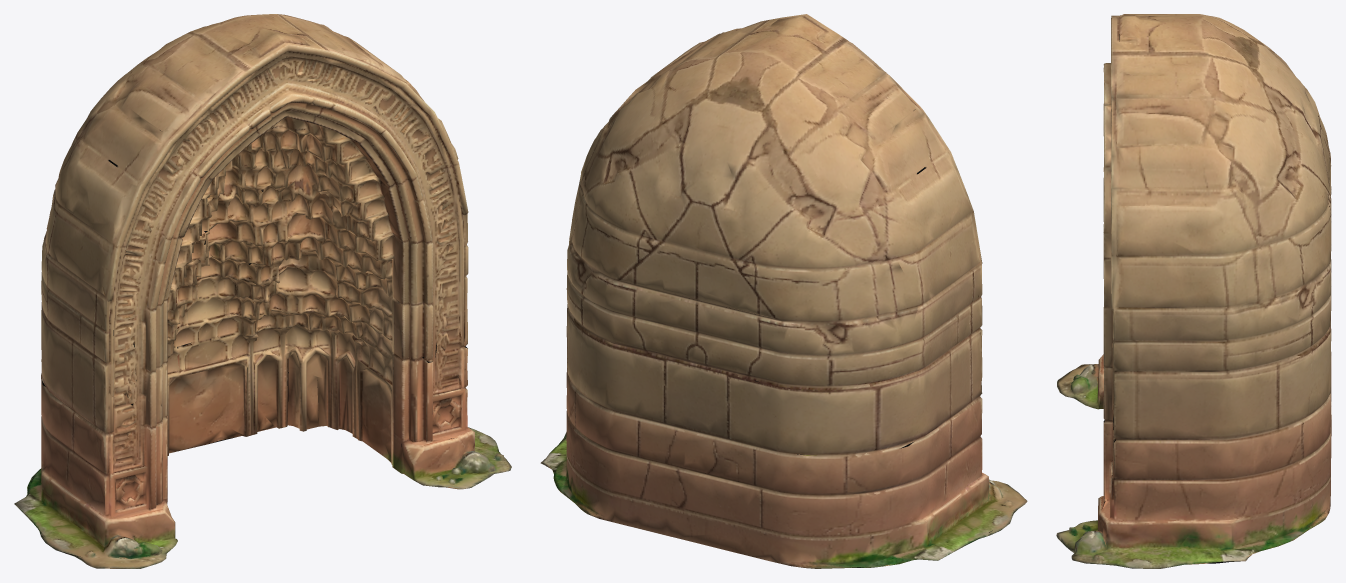
The model's file is Arabic_Script_Archway.fbx.
3 views of the same model, side by side, from view 1: azimuth 30°, elevation 25°; view 2: azimuth 150°, elevation 25°; view 3: azimuth 270°, elevation 25° (orthographic). The views are drawn at different scales.
Parts seen in each view (by area): view 1: Arabic_Script_Archway_LOD0; view 2: Arabic_Script_Archway_LOD0; view 3: Arabic_Script_Archway_LOD0.
Part boxes in pixels (bbox=[...]): Arabic_Script_Archway_LOD0: bbox=[14, 14, 511, 568]; Arabic_Script_Archway_LOD0: bbox=[540, 14, 1027, 568]; Arabic_Script_Archway_LOD0: bbox=[1056, 14, 1331, 568].
Size of what is drawn, in the model's own units: 1.9 by 1.9 by 1.06.
1 material, 1 textured.
